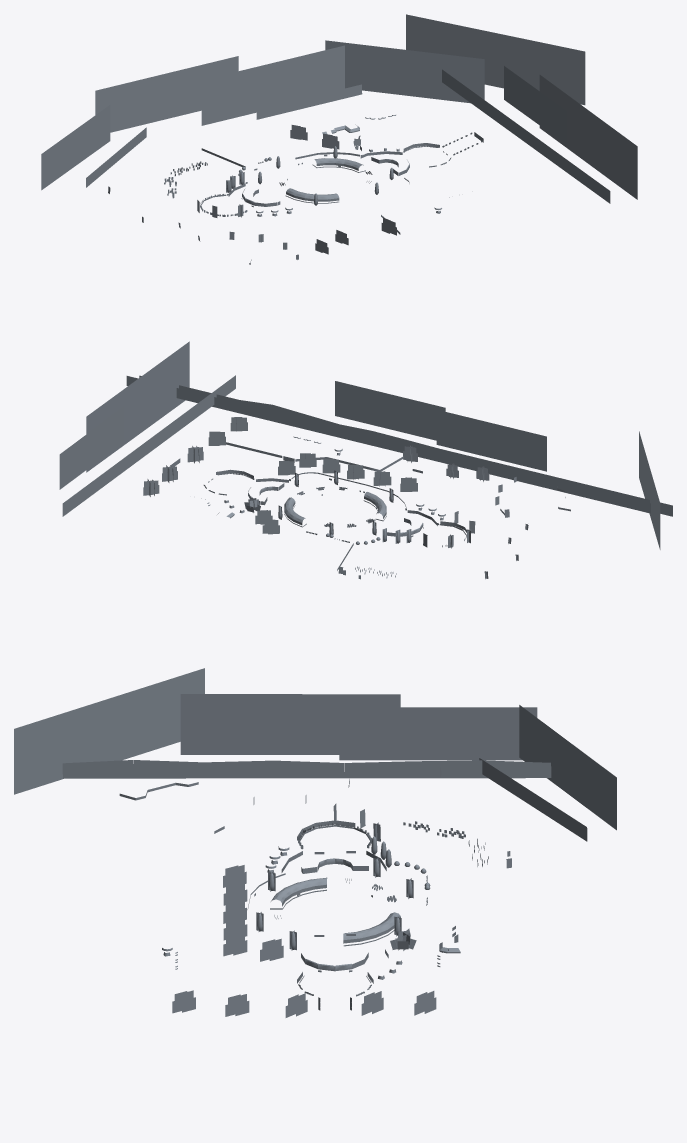
The model's file is gltf__Models__map__Village__circlePark__circlePark_mergedAlpah_oneMesh.glb.
3 renders of one model, top to bottom at view 1: azimuth 30°, elevation 25°; view 2: azimuth 150°, elevation 25°; view 3: azimuth 270°, elevation 25°, orthographic. The views are drawn at different scales.
Parts seen in each view (by area): view 1: circlePark_mergedAlpah_oneMesh; view 2: circlePark_mergedAlpah_oneMesh; view 3: circlePark_mergedAlpah_oneMesh.
Part boxes in pixels (left/top/right/bottom): circlePark_mergedAlpah_oneMesh: left=41, top=14, right=637, bottom=264; circlePark_mergedAlpah_oneMesh: left=59, top=341, right=672, bottom=579; circlePark_mergedAlpah_oneMesh: left=14, top=668, right=616, bottom=1017.
Bounding box in the file's own units: 210 × 22.34 × 150.
1 material, 1 textured.
